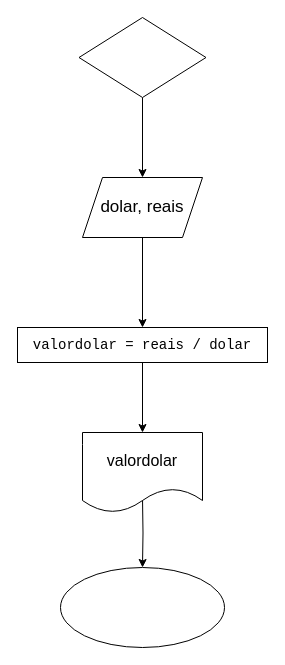
Image size: 285x665. Some labels were removed from this diagram. The shapes that lost their labels are listed below. From the top down, each one's centre as x and y in pixels, then its label:
point 142,57: Início
point 142,607: Fim
